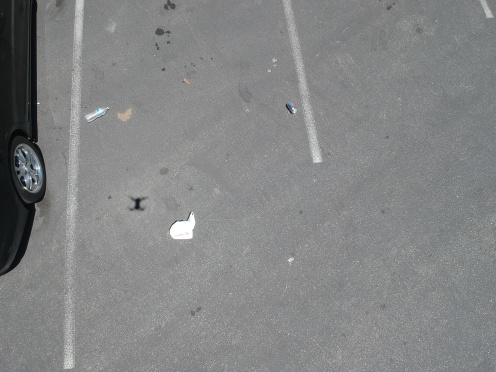bottle: (80, 103, 116, 123)
can: (285, 101, 299, 116)
plastic bag: (163, 206, 202, 242)
